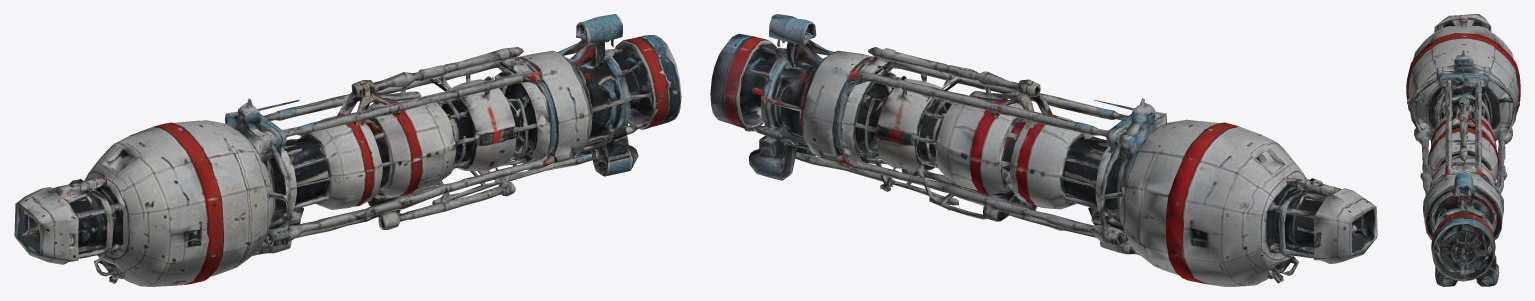
The model's file is Zeta.glb.
The picture shows the model from 3 angles, left to right: view 1: azimuth 30°, elevation 25°; view 2: azimuth 150°, elevation 25°; view 3: azimuth 270°, elevation 25°; orthographic projection. The views are drawn at different scales.
Bounding box in the file's own units: 1.9 × 0.4642 × 0.4107.
Materials: 1 (1 with a texture image).
